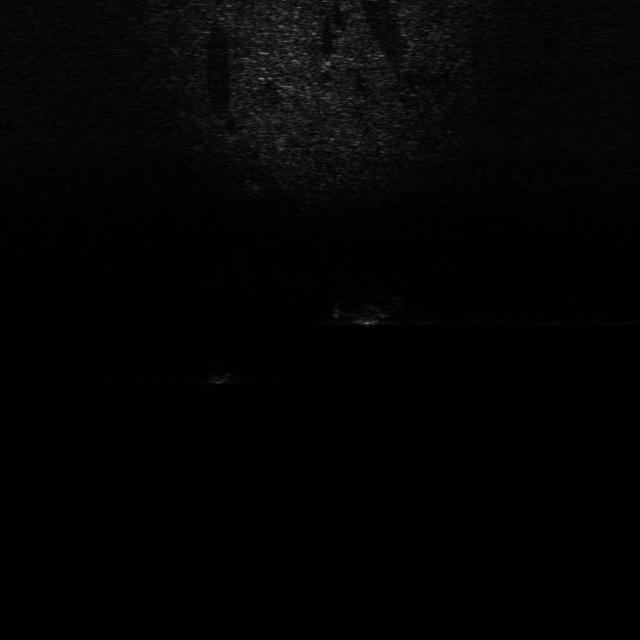ball: (206, 364, 236, 384)
human body: (332, 295, 404, 330)
